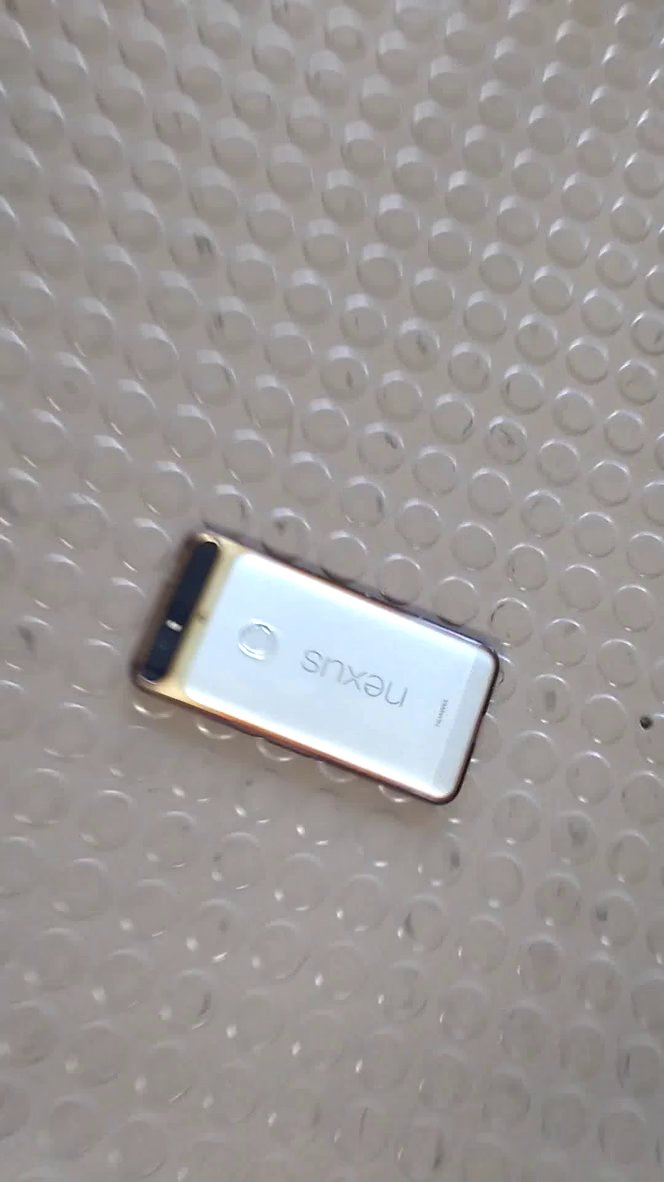phone: (114, 494, 534, 835)
